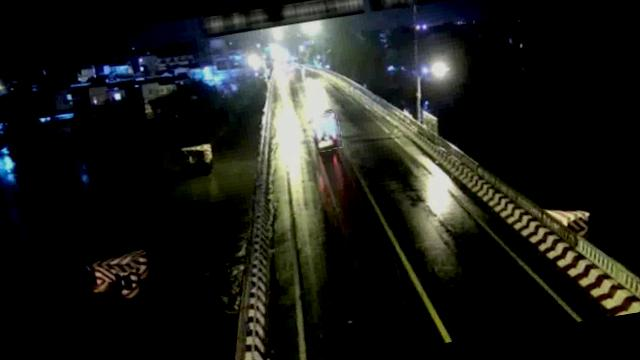Truck: (306, 110, 344, 153)
